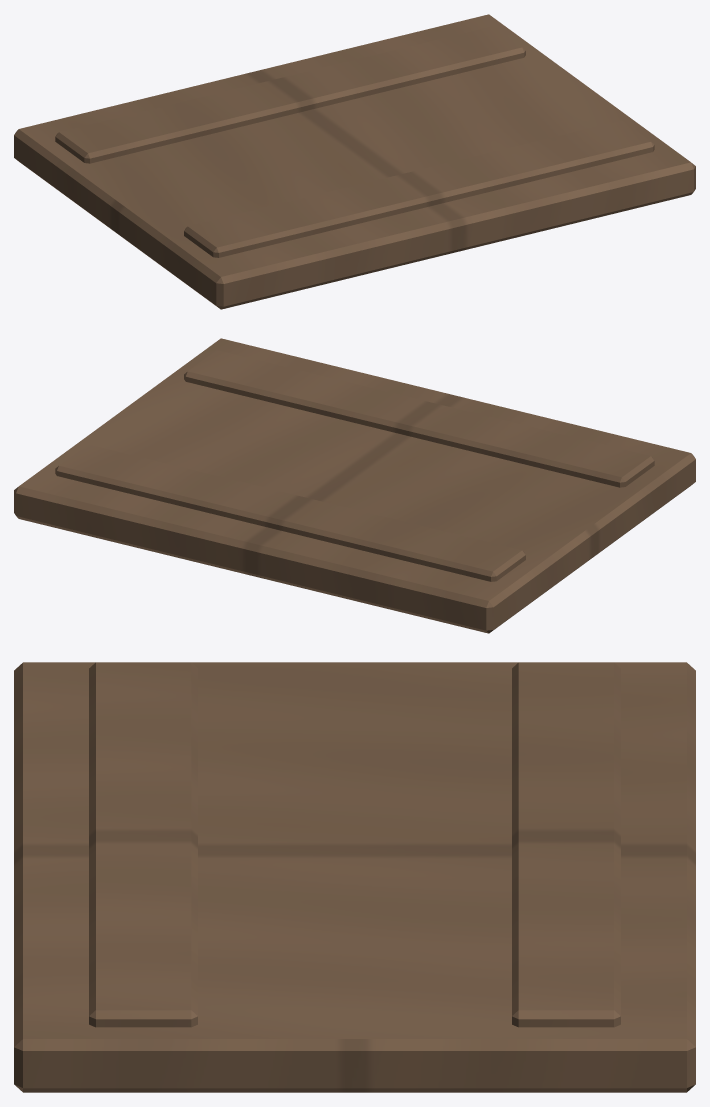
File: WarrensC_WVC047_StorageCrateLid_Mars_SM.fbx
3 renders of one model, top to bottom at view 1: azimuth 30°, elevation 25°; view 2: azimuth 150°, elevation 25°; view 3: azimuth 270°, elevation 25°, orthographic. The views are drawn at different scales.
Parts seen in each view (by area): view 1: WarrensC_WVC047_StorageCrateLid_Mars_SM.001; view 2: WarrensC_WVC047_StorageCrateLid_Mars_SM.001; view 3: WarrensC_WVC047_StorageCrateLid_Mars_SM.001.
Part boxes in pixels (x1,y1,x2,y2): WarrensC_WVC047_StorageCrateLid_Mars_SM.001: (14,14,695,309); WarrensC_WVC047_StorageCrateLid_Mars_SM.001: (14,338,695,633); WarrensC_WVC047_StorageCrateLid_Mars_SM.001: (14,662,695,1092).
Bounding box in the file's own units: 80 × 60 × 8.
